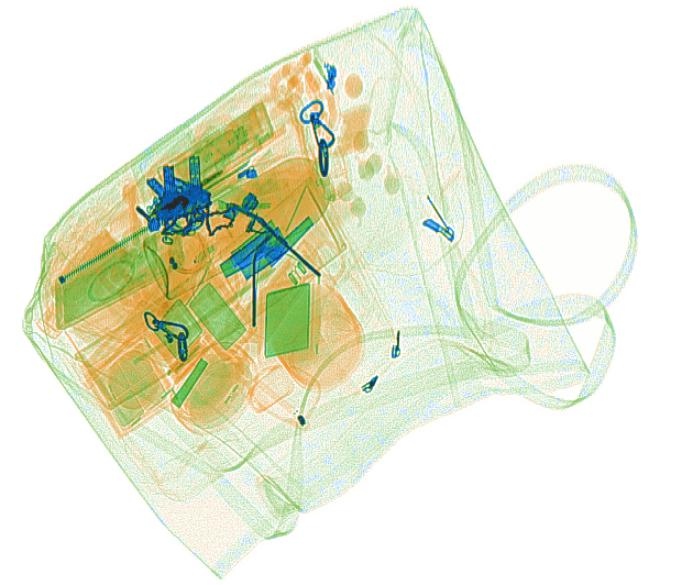plasticBottleWithaNozzle: (231, 239, 324, 357)
pressure: (140, 144, 349, 304)
